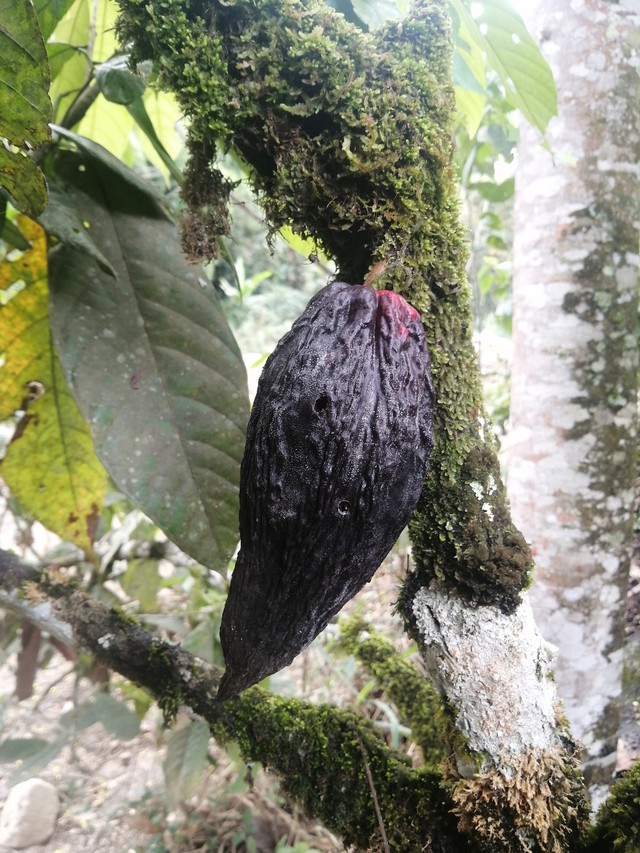carmenta foraseminis: (197, 267, 448, 710)
